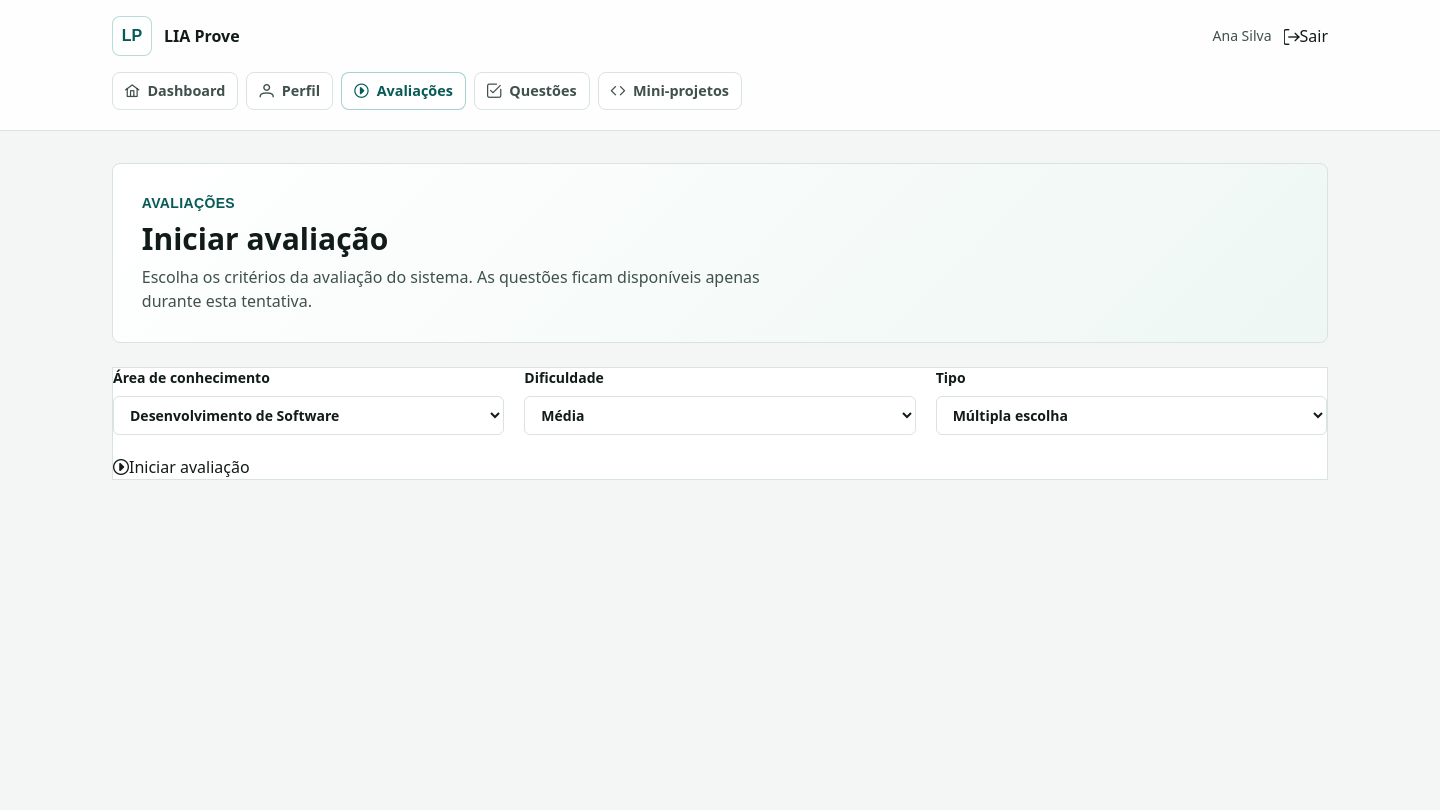
AssessmentStartView › shows backend errors when starting fails
Click the button with test id "start-assessment" at (181, 467), box [113,455,250,479]
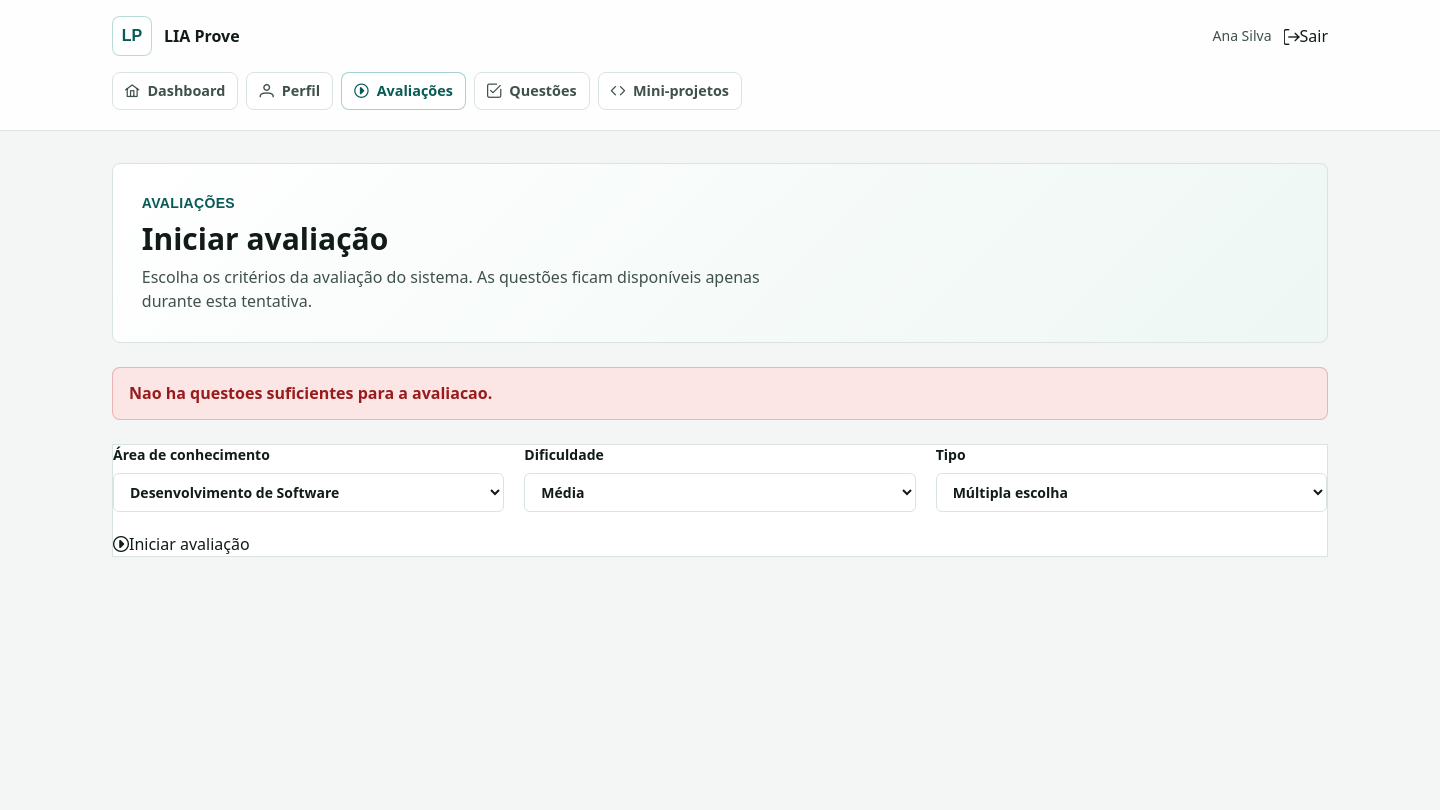
Now the text "Nao ha questoes suficientes para a avaliacao." is shown, box [112,367,1328,420]
